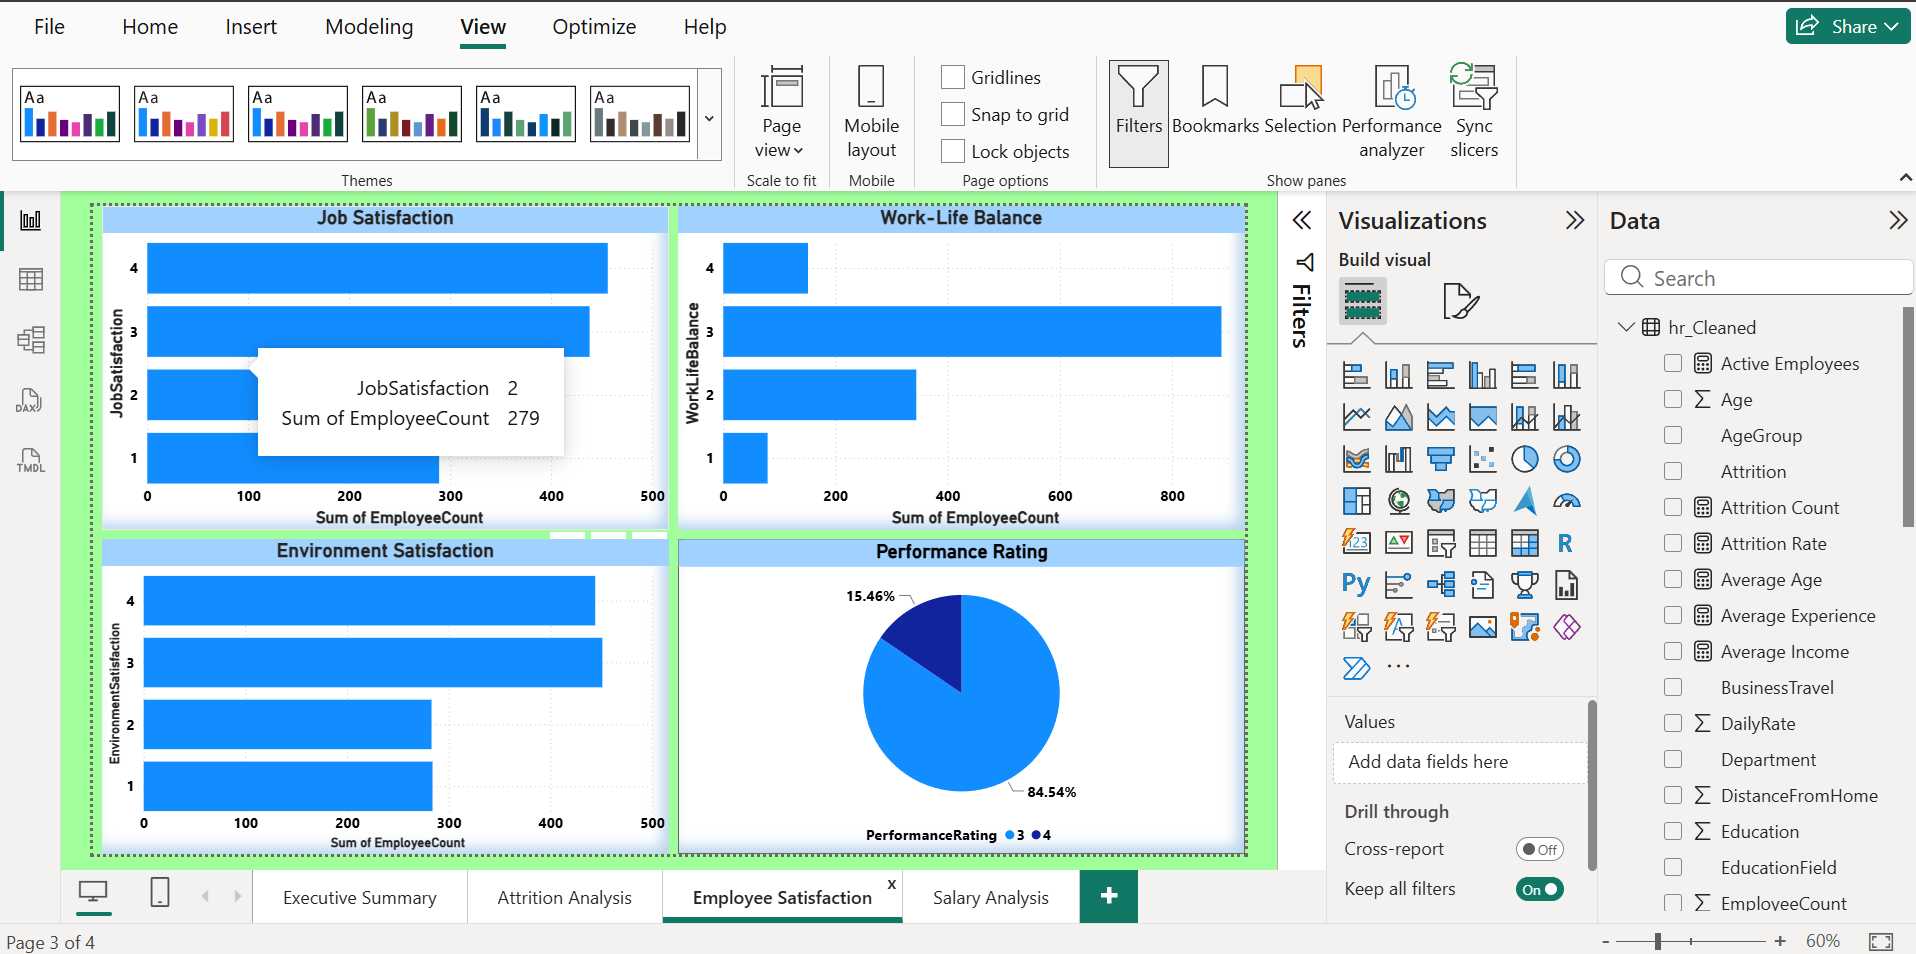

The dashboard page shown, as its layout file describes it:
{"tool":"powerbi","page":{"name":"Employee Satisfaction","canvas":[1280,720],"ordinal":2},"visuals":[{"type":"barChart","title":"Job Satisfaction","fields":{"Category":["hr_Cleaned.JobSatisfaction"],"Y":["Sum(hr_Cleaned.EmployeeCount)"]},"box":[10,0,630,360],"z":0},{"type":"barChart","title":"Environment Satisfaction","fields":{"Category":["hr_Cleaned.EnvironmentSatisfaction"],"Y":["Sum(hr_Cleaned.EmployeeCount)"]},"box":[10,370,630,350],"z":1000},{"type":"barChart","title":"Work-Life Balance","fields":{"Category":["hr_Cleaned.WorkLifeBalance"],"Y":["Sum(hr_Cleaned.EmployeeCount)"]},"box":[650,0,630,360],"z":2000},{"type":"pieChart","title":"Performance Rating","fields":{"Category":["hr_Cleaned.PerformanceRating"],"Y":["Sum(hr_Cleaned.EmployeeCount)"]},"box":[650,370,630,350],"z":3000}]}

Visuals, with their boxes on the page's 1280x720 design canvas (x1, y1, x2, y2). These are canvas units, not pixel positions in the 1916x954 screenshot, which may show the page scaled, cropped or inside an application window:
"Job Satisfaction" barChart: [left=10, top=0, right=640, bottom=360]
"Environment Satisfaction" barChart: [left=10, top=370, right=640, bottom=720]
"Work-Life Balance" barChart: [left=650, top=0, right=1280, bottom=360]
"Performance Rating" pieChart: [left=650, top=370, right=1280, bottom=720]
